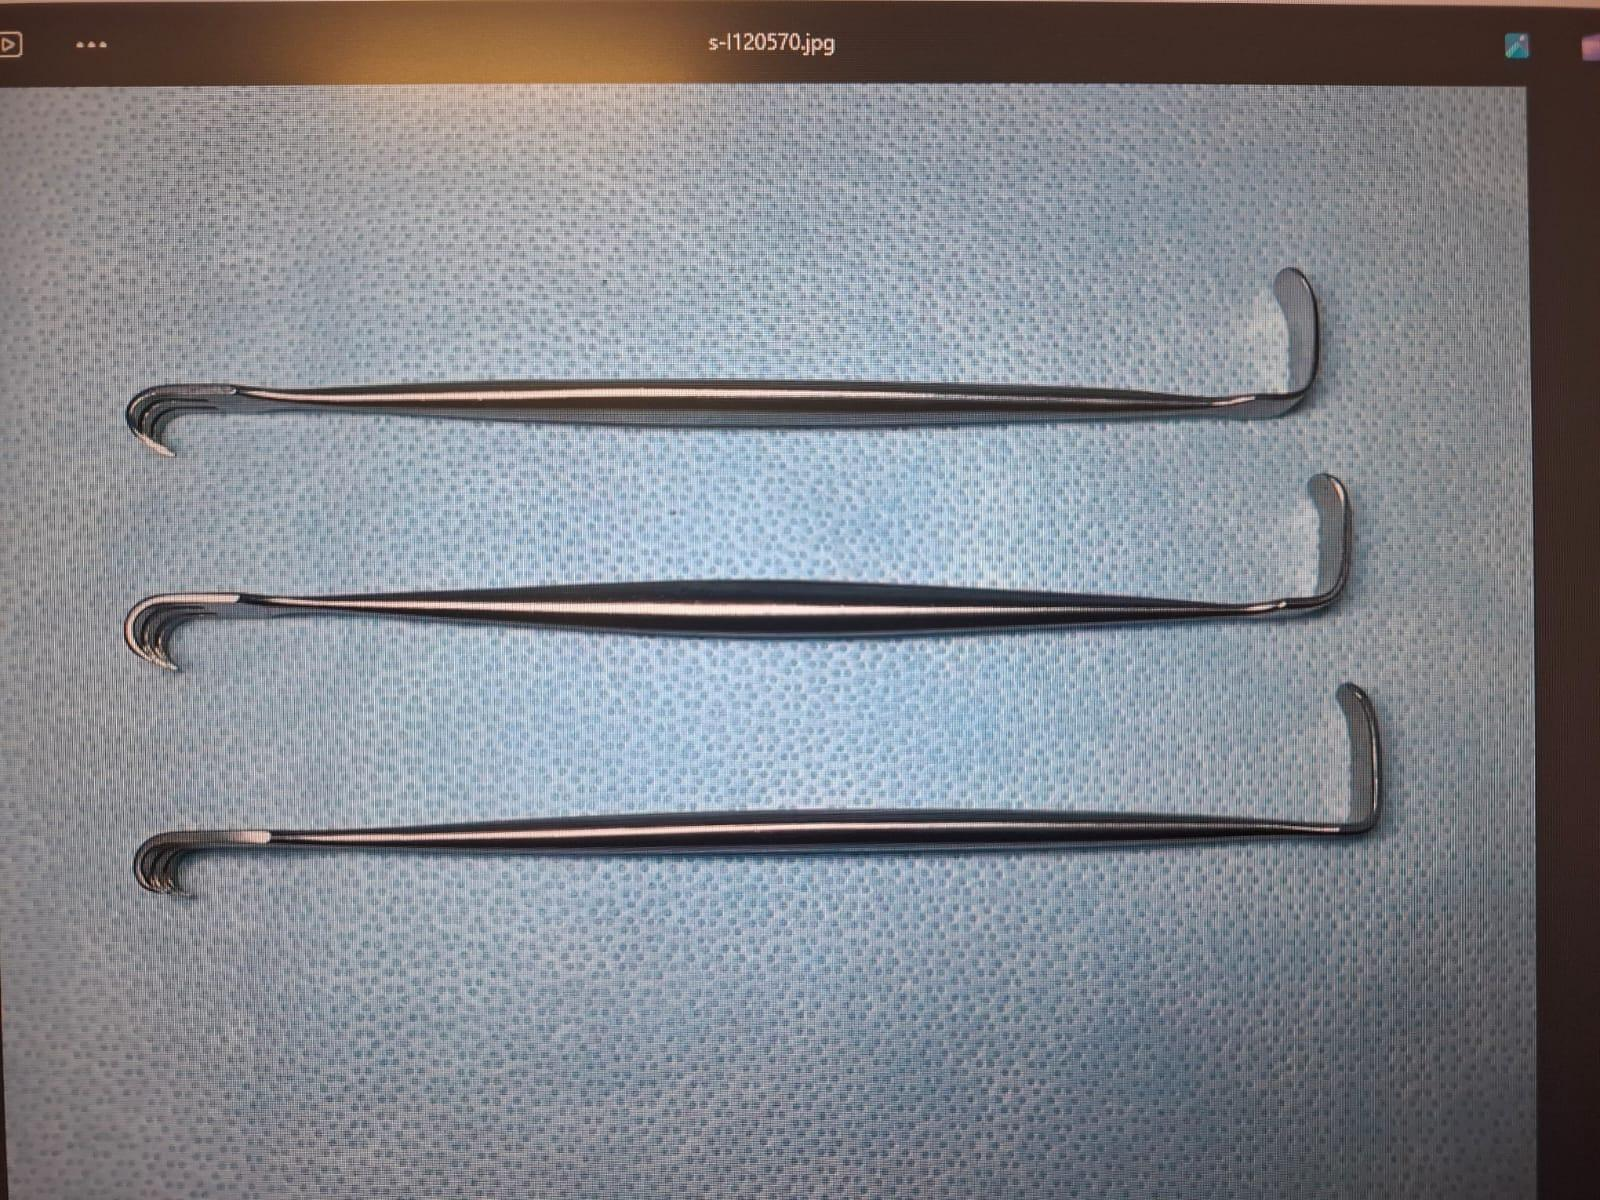Senn Retractor: (129, 664, 1402, 938), (110, 250, 1338, 487), (113, 456, 1372, 684)
